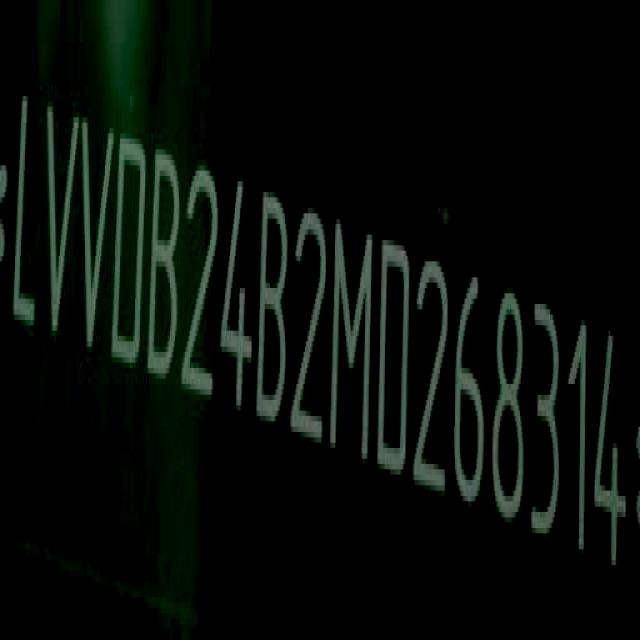1: (570, 314, 590, 562)
2: (414, 255, 450, 503), (294, 199, 328, 448), (186, 157, 220, 402)
3: (532, 298, 564, 553)
4: (596, 332, 630, 576), (220, 174, 252, 419)
6: (452, 266, 484, 514)
8: (494, 286, 526, 530)
B: (148, 144, 182, 382), (257, 184, 290, 426)
D: (378, 233, 412, 482), (114, 126, 147, 372)
L: (12, 82, 44, 336)
M: (330, 216, 375, 472)
V: (40, 96, 78, 344), (79, 111, 115, 361)
